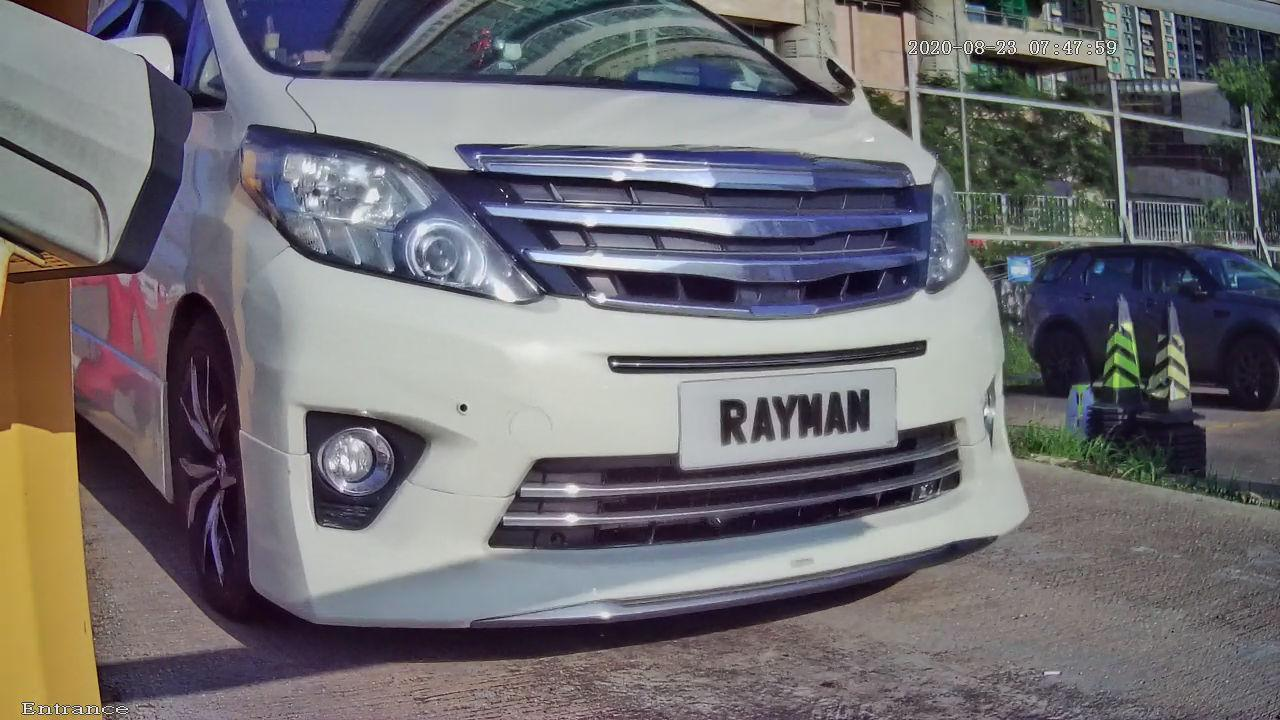Car: (41, 1, 1109, 682)
License Plate: (640, 332, 943, 496)
